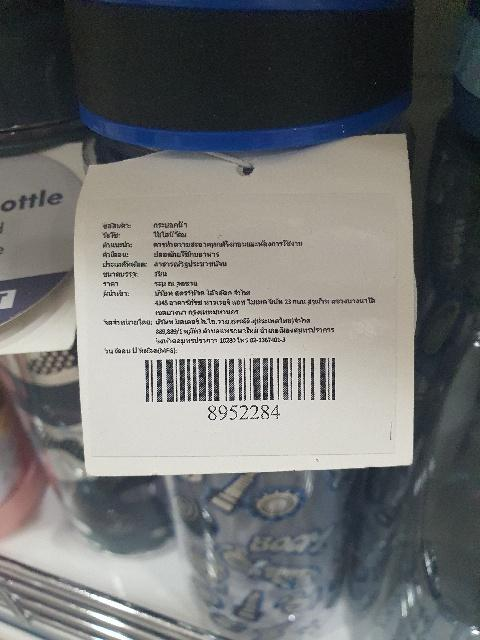Barcode: (137, 350, 348, 424)
